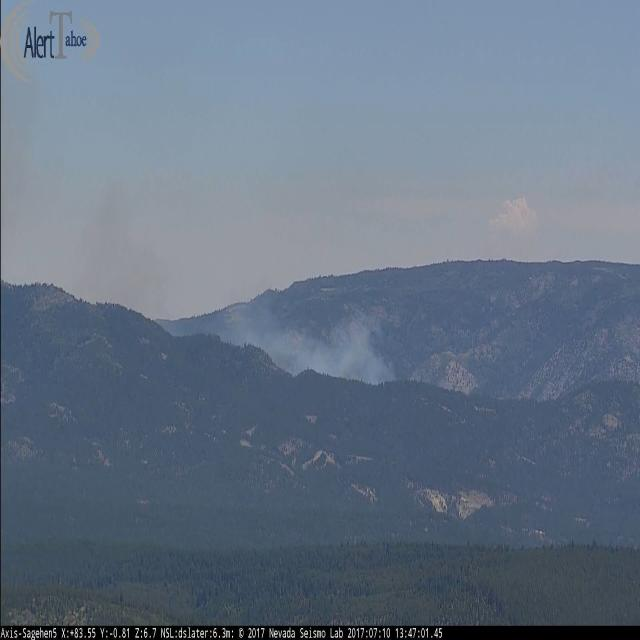smoke: (228, 298, 399, 381)
